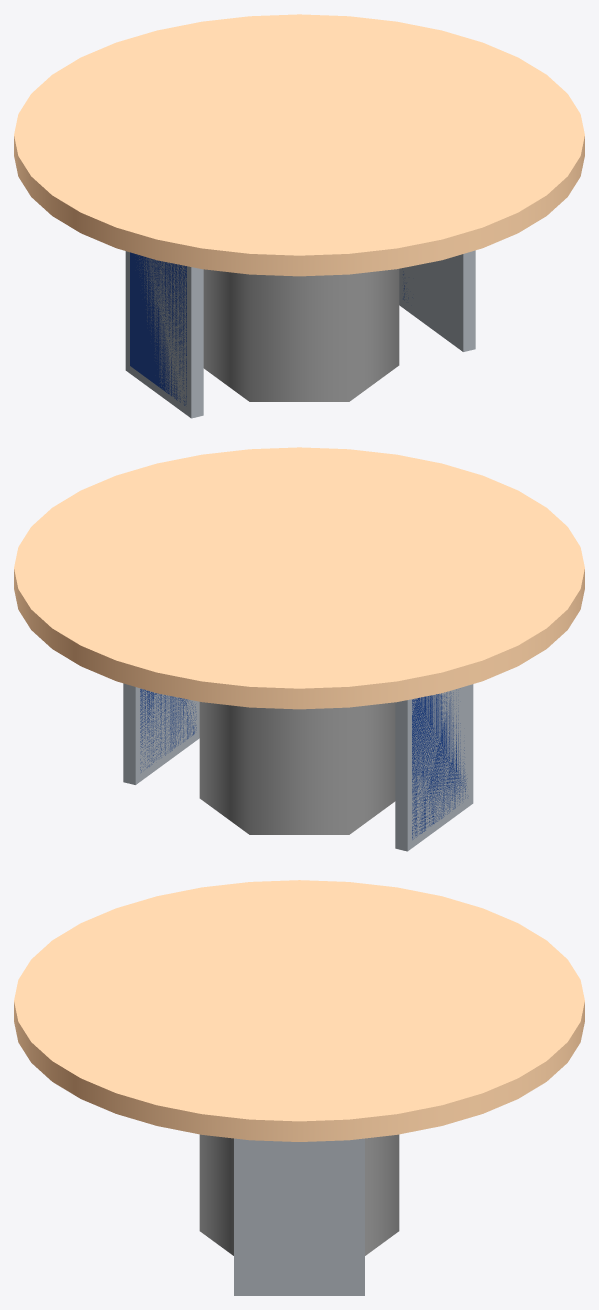
File: psp.glb
The picture shows the model from 3 angles, top to bottom: view 1: azimuth 30°, elevation 25°; view 2: azimuth 150°, elevation 25°; view 3: azimuth 270°, elevation 25°; orthographic projection.
Parts seen in each view (by area): view 1: psp, panel (×2); view 2: psp, panel (×2); view 3: psp, panel.
Boxes of the visible parts, left/top/right/bottom form: psp: left=14, top=14, right=584, bottom=401; panel (×2): left=125, top=250, right=475, bottom=418; psp: left=14, top=447, right=584, bottom=834; panel (×2): left=123, top=683, right=473, bottom=851; psp: left=14, top=880, right=584, bottom=1255; panel: left=234, top=1138, right=364, bottom=1295.
Bounding box in the file's own units: 2 × 0.89 × 2.
